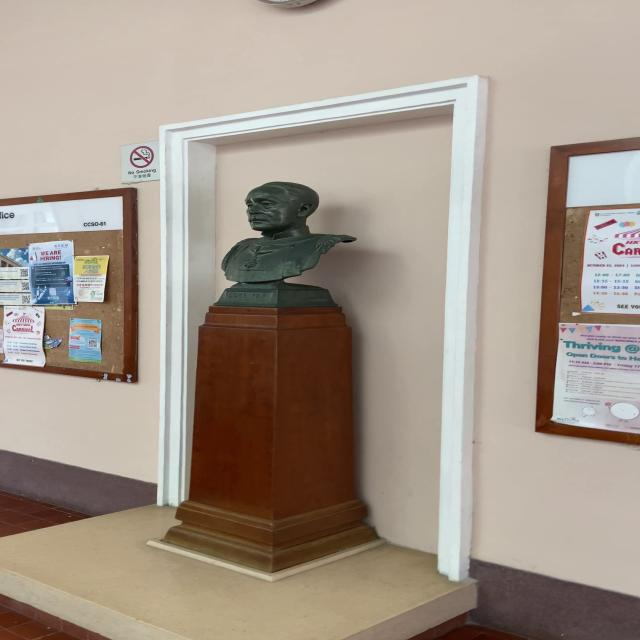statues: (200, 176, 361, 314)
